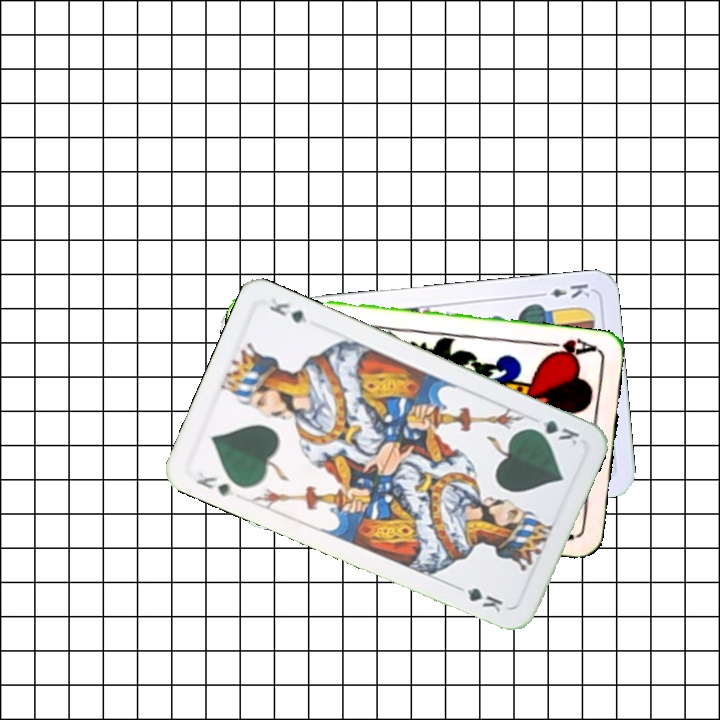EK: (533, 279, 593, 301)
GK: (525, 416, 582, 448), (192, 467, 237, 499)
HA: (540, 334, 600, 362)
